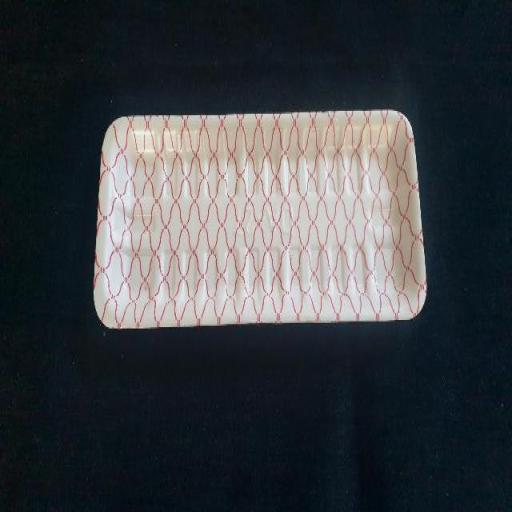styrofoam: (94, 110, 426, 327)
